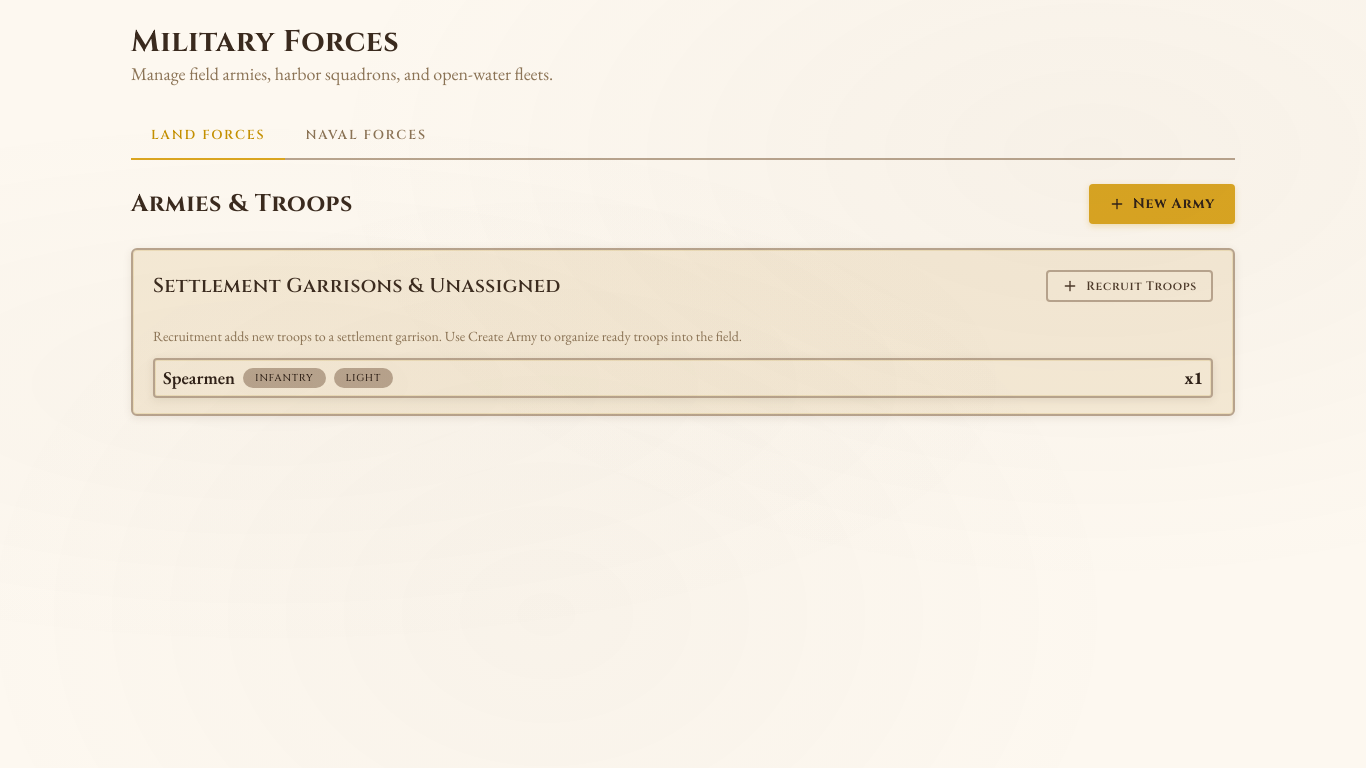
it: ArmyPage › creates an army for a GM-managed realm using the realm settlement territory
Step 1. Click the button "New Army" → (1162, 204), box [1089,184,1235,224]
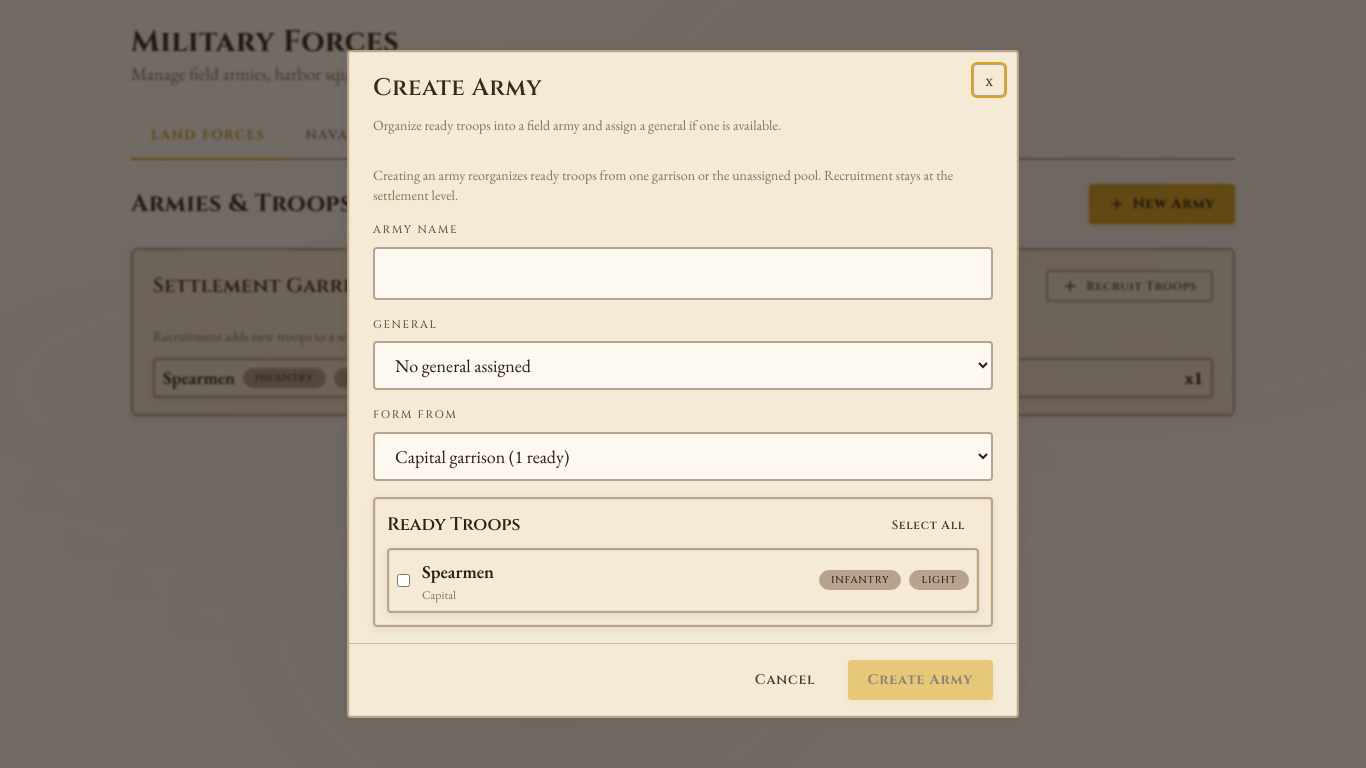
Step 2. Type "First Army" into the field labelled "Army Name" → (683, 273), box [373,247,993,300]
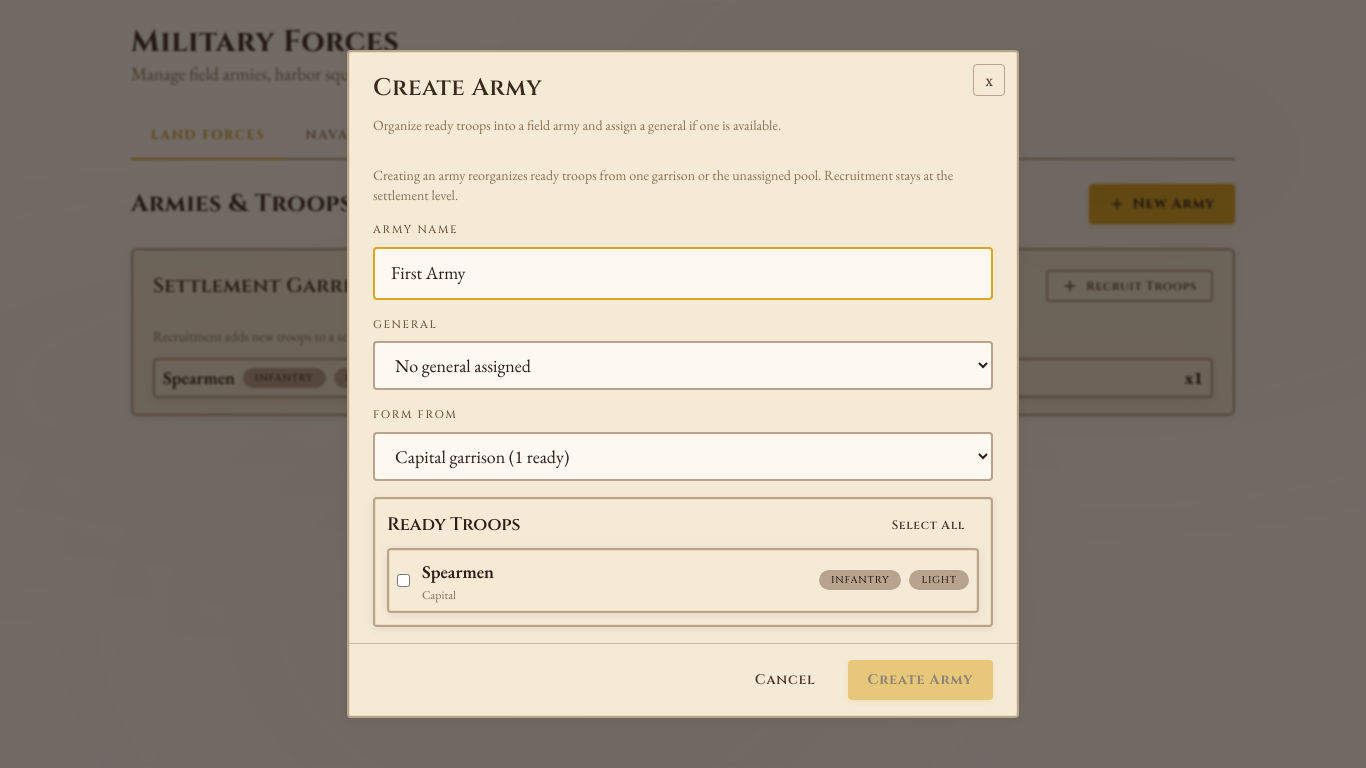
Step 3. Select "General Rowan" in the dropdown labelled "General" → (683, 366), box [373,341,993,390]
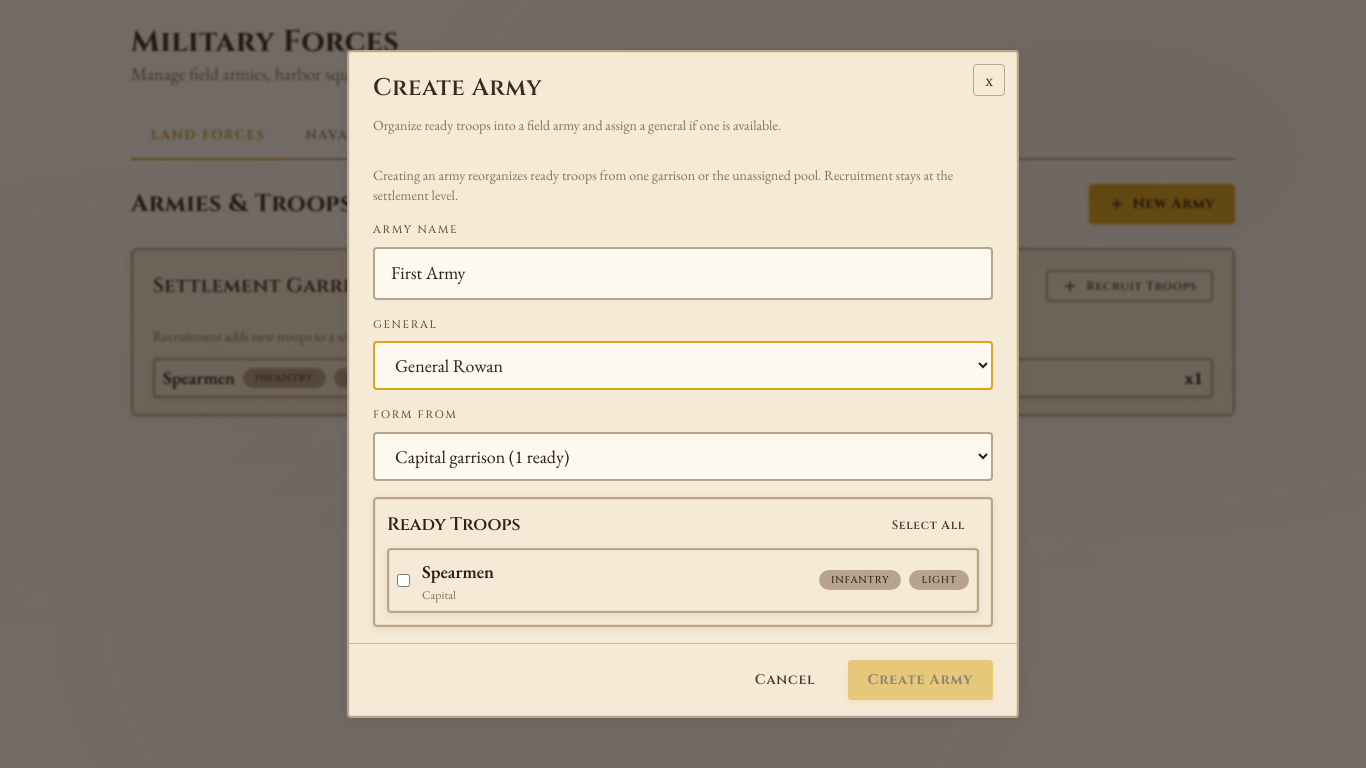
Step 4. Click the checkbox named "Select Spearmen troop-1" → (404, 580), box [397,574,410,587]
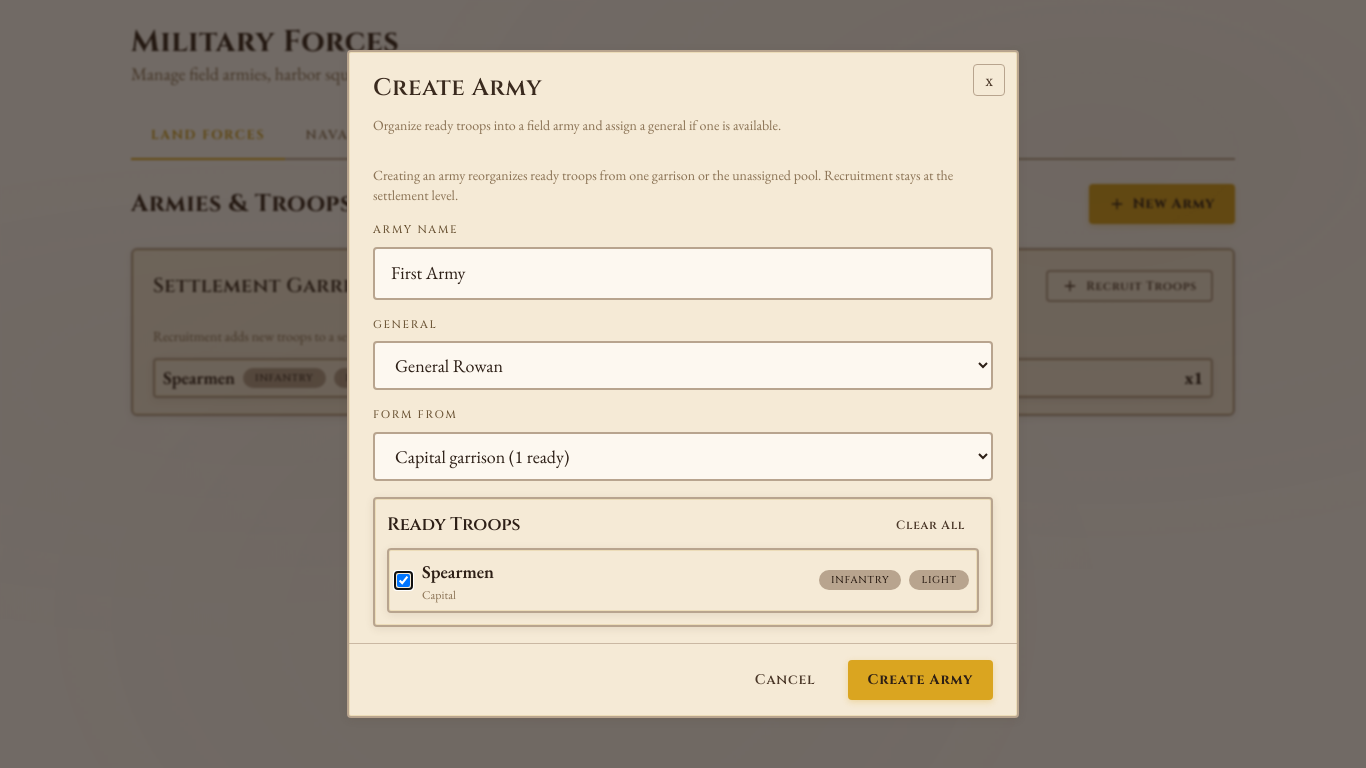
Step 5. Click the button "Create Army" → (920, 680), box [848,660,993,700]
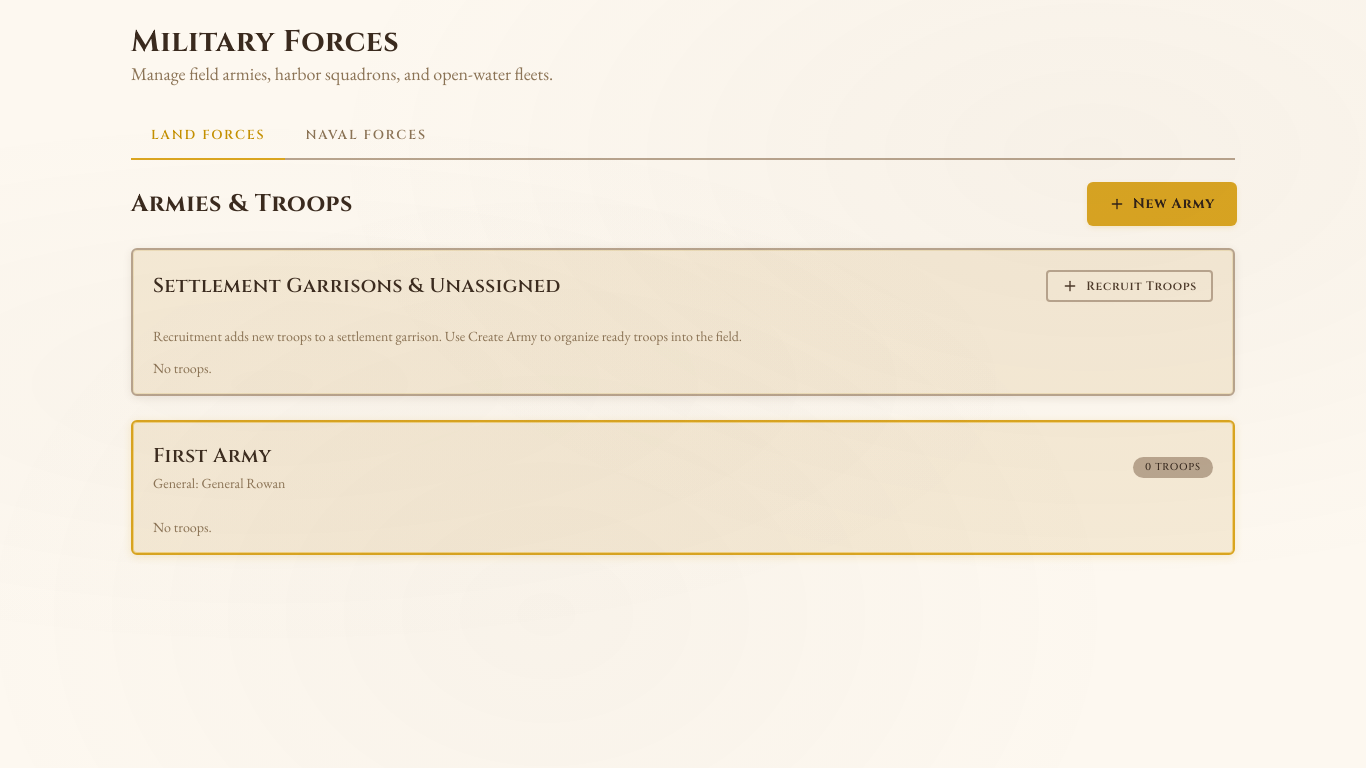
Result: the label labelled "Army Name" is gone
Result: the heading "First Army" is shown at [153,442,285,469]
Result: the text "General: General Rowan" is shown at [153,473,285,493]
